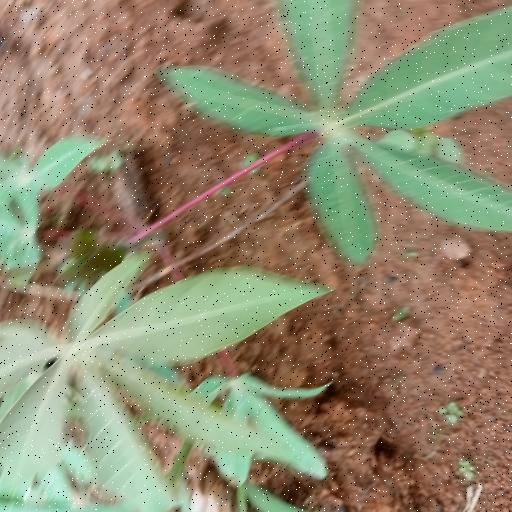Cassava_Mosaic: (174, 9, 512, 257), (0, 239, 294, 512)
